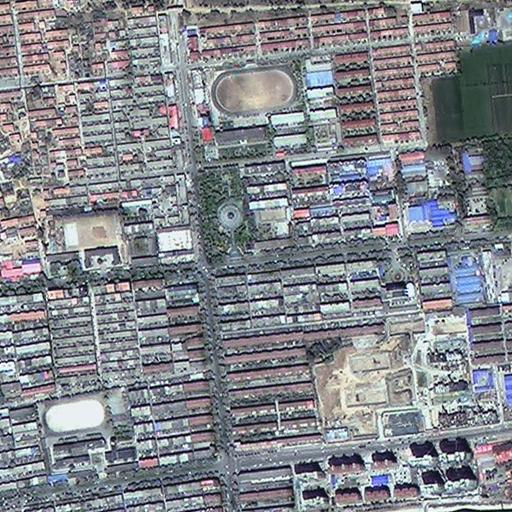school: (187, 56, 337, 157), (40, 387, 136, 473), (58, 209, 124, 269), (429, 315, 469, 350)
